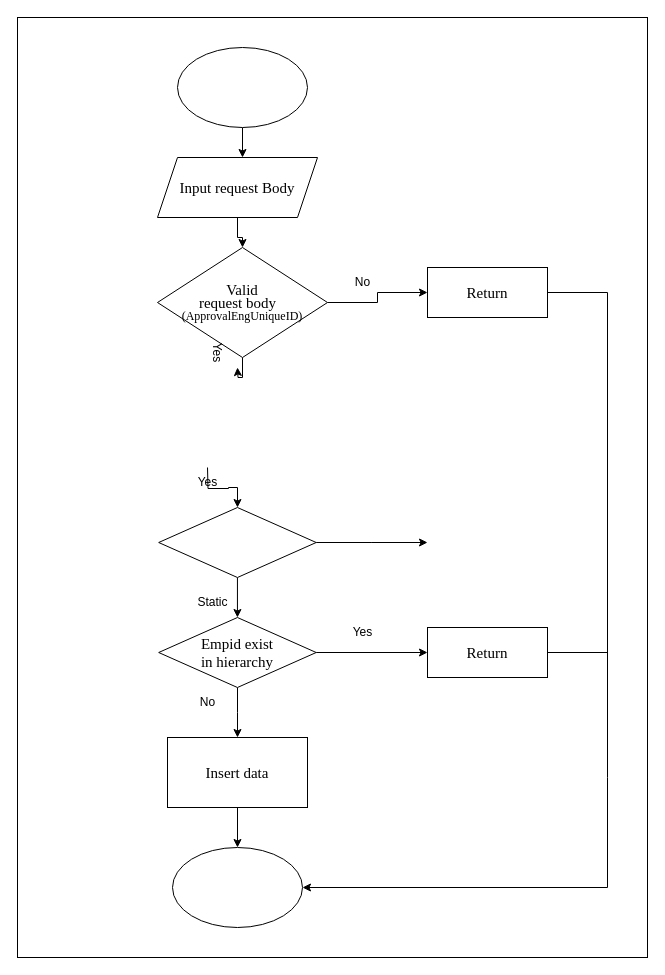
Some shapes in this 665 by 975 pixel diagram are drawn without their labels. Each missing label, with the box of its shape:
Approval Flow type: (158, 506, 316, 578)
End: (172, 846, 302, 928)
Start: (176, 46, 308, 128)
